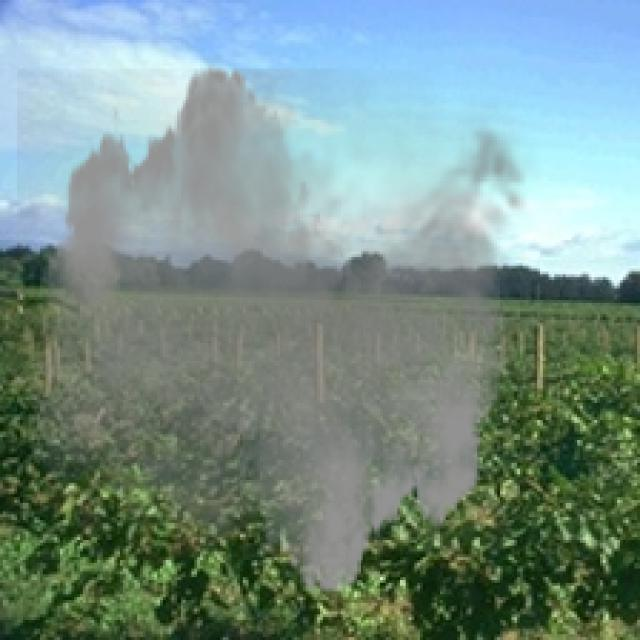Smoke: (17, 49, 543, 612)
